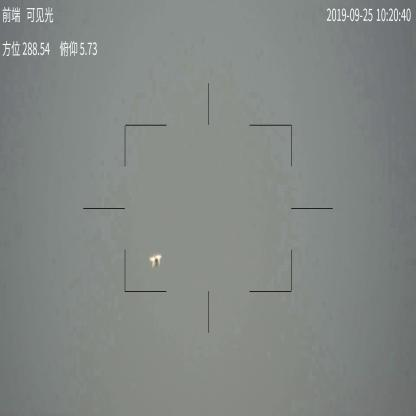uav: (145, 250, 165, 270)
